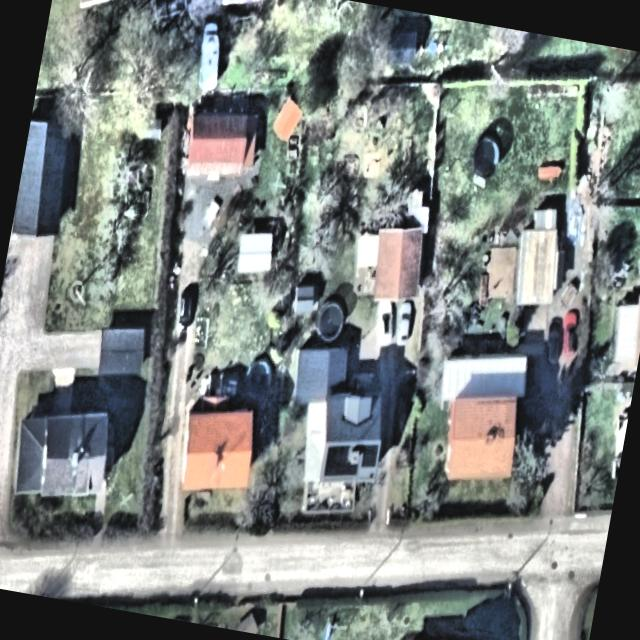roof_pv: (322, 438, 352, 478), (357, 440, 382, 476), (345, 463, 359, 478)
